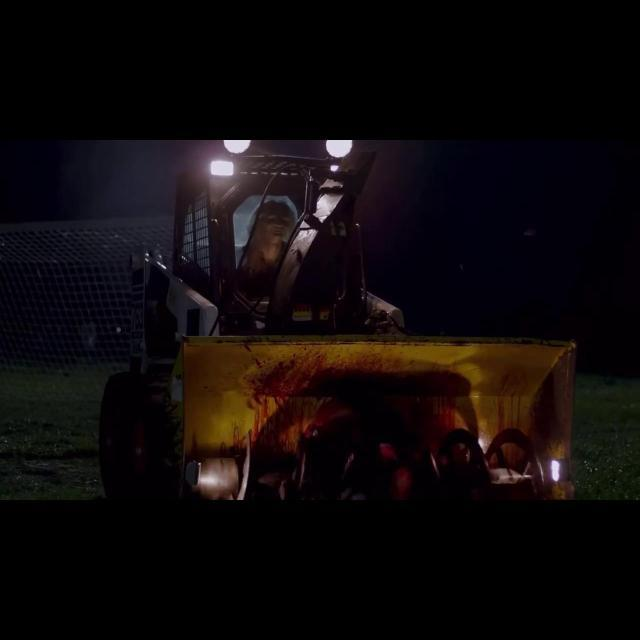blood: (232, 342, 530, 466)
